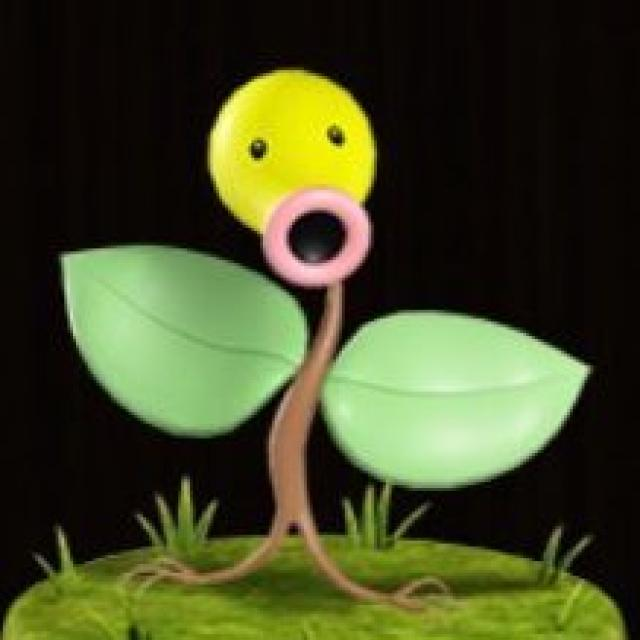Bellsprout: (173, 65, 459, 603)
